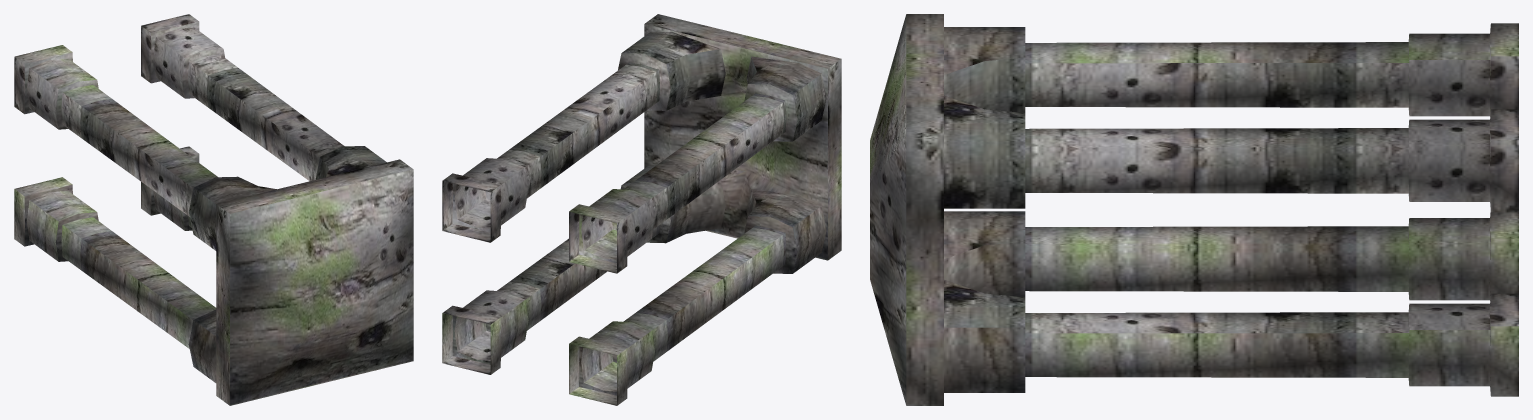
File: 4_pillars.obj
The picture shows the model from 3 angles, left to right: view 1: azimuth 30°, elevation 25°; view 2: azimuth 150°, elevation 25°; view 3: azimuth 270°, elevation 25°; orthographic projection. The views are drawn at different scales.
Visible parts, largest first — view 1: Cube_Cube.002; view 2: Cube_Cube.002; view 3: Cube_Cube.002.
Boxes of the visible parts, x1,y1,x2,y2 form: Cube_Cube.002: [14, 14, 413, 405]; Cube_Cube.002: [442, 14, 841, 405]; Cube_Cube.002: [870, 14, 1518, 405].
Bounding box in the file's own units: 2 × 2 × 4.4.
